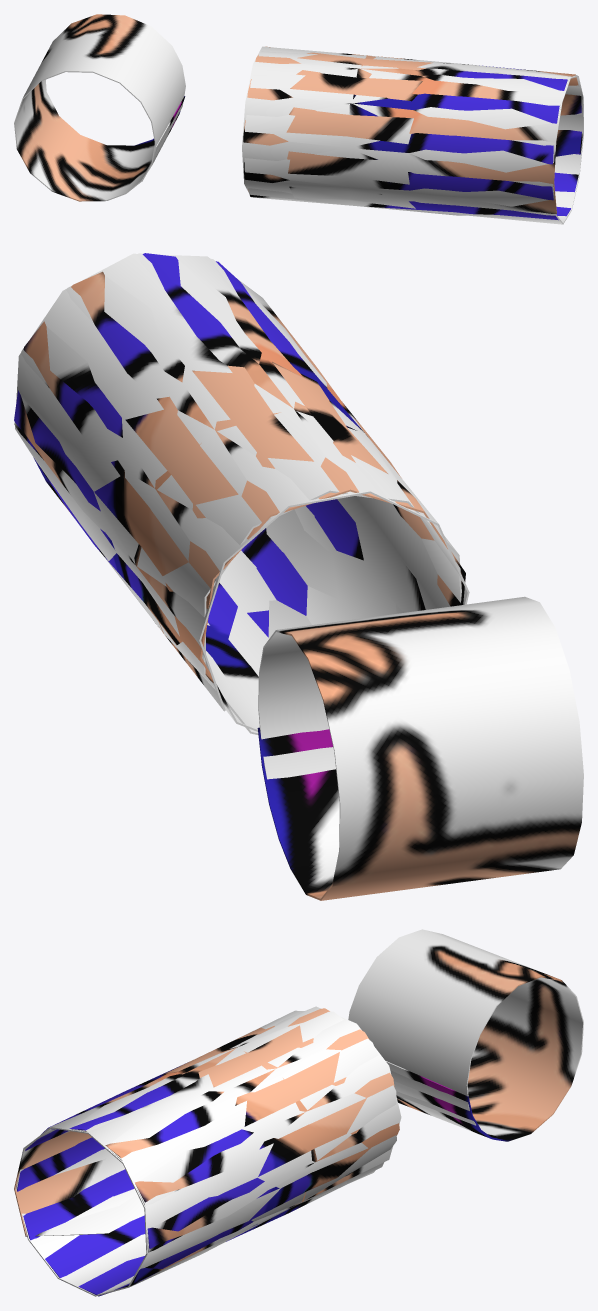
3 views of the same model, one above another, from view 1: azimuth 30°, elevation 25°; view 2: azimuth 150°, elevation 25°; view 3: azimuth 270°, elevation 25° (orthographic). The views are drawn at different scales.
Visible parts, largest first — view 1: Blend, Blend1; view 2: Blend, Blend1; view 3: Blend, Blend1.
Boxes of the visible parts, x1=… form: Blend: x1=242, y1=46, x2=583, y2=224; Blend1: x1=14, y1=14, x2=185, y2=201; Blend: x1=14, y1=253, x2=469, y2=734; Blend1: x1=257, y1=596, x2=583, y2=900; Blend: x1=14, y1=1006, x2=401, y2=1296; Blend1: x1=348, y1=929, x2=583, y2=1141.
Size of what is drawn, in the model's own units: 479 by 144 by 456.
